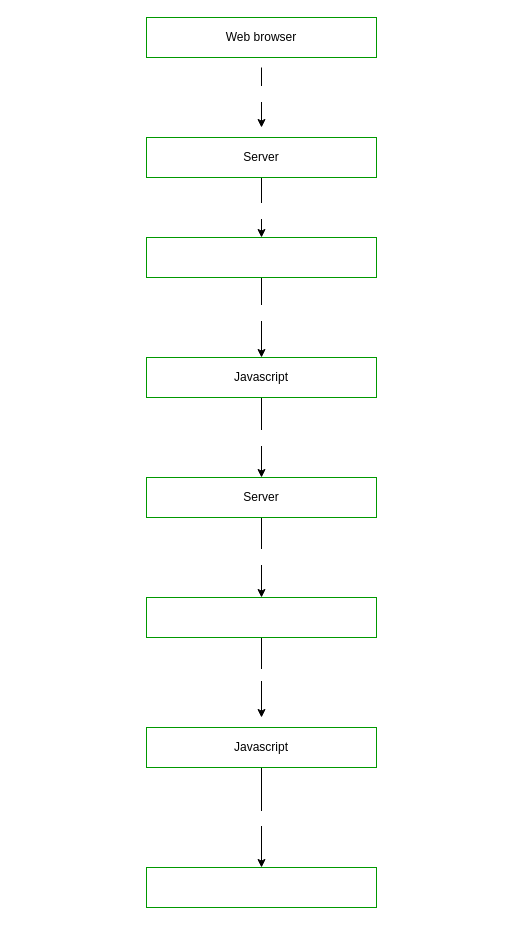
Some shapes in this 523 by 925 pixel diagram are drawn without their labels. The shapes that lost their labels are listed below. From the top down, each one's centre as x and y in pixels, then its label:
(x=261, y=257): SPA
(x=261, y=617): JSON
(x=261, y=887): Updated UI
